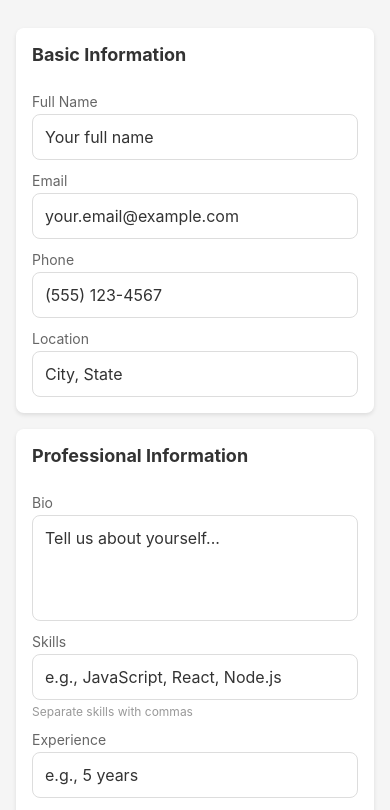
Test case: ProfileScreen › should show success message after saving
This screenshot has width=390, height=810.
Type "Test User" into the field with placeholder "Your full name".
click(195, 137); type("Test User")  # box [32, 114, 358, 160]
(page scrolled)
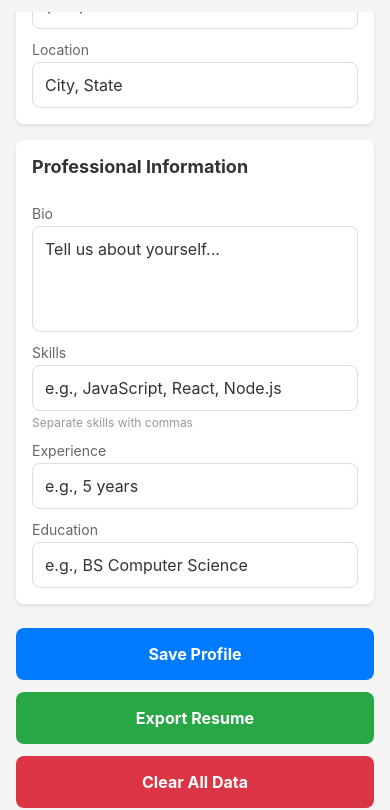
Click the text "Save Profile".
click(195, 654)  # box [148, 644, 242, 664]
(page scrolled)
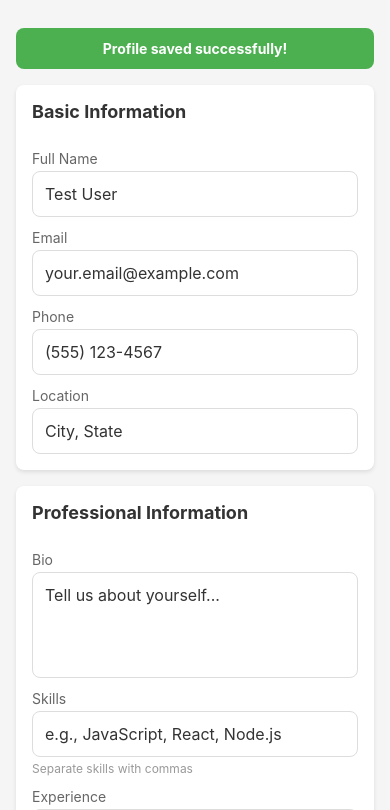
expect the text "Profile saved successfully!" is shown: met, box [103, 40, 287, 57]
